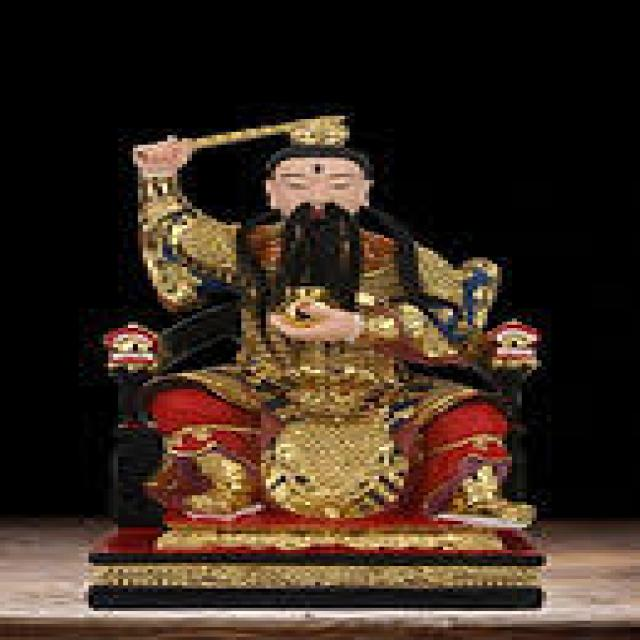Xuan wu: (120, 107, 530, 523)
